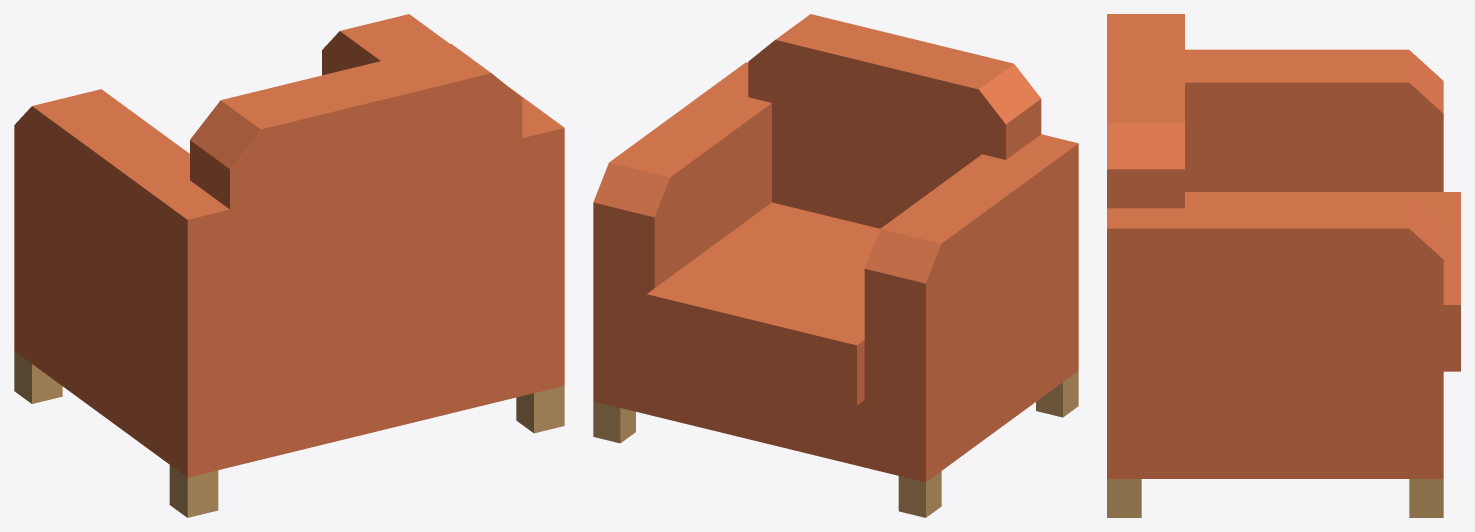
File: loungeChair.glb
3 views of the same model, side by side, from view 1: azimuth 30°, elevation 25°; view 2: azimuth 150°, elevation 25°; view 3: azimuth 270°, elevation 25° (orthographic). The views are drawn at different scales.
Size of the model in its own units: 4.9 by 4.6 by 4.1.
